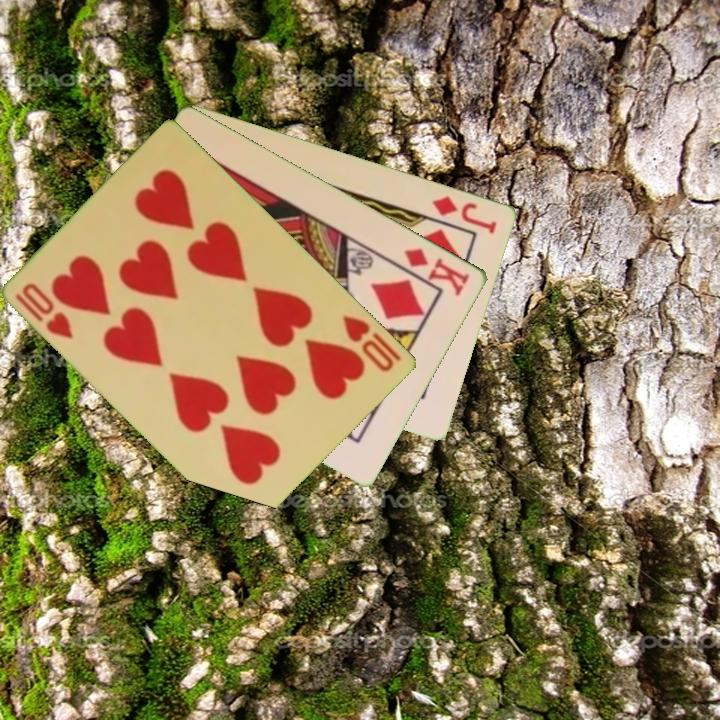10h: (339, 311, 405, 375), (12, 279, 77, 342)
Jd: (429, 192, 501, 237)
Kd: (401, 244, 473, 299)
